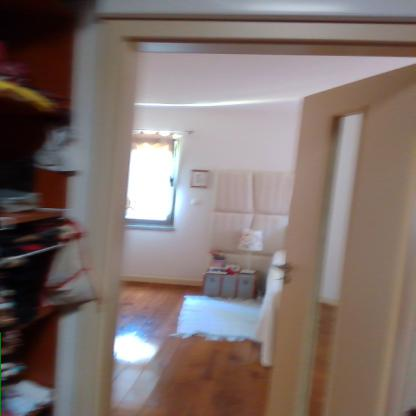semi: (93, 12, 416, 416)
